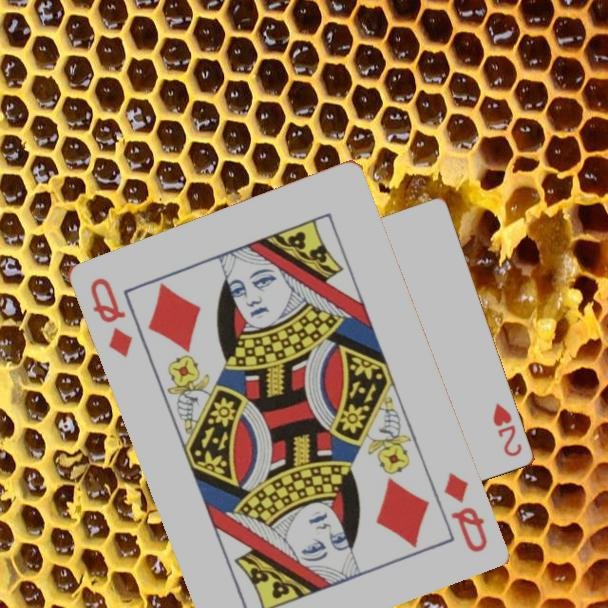d12: (439, 468, 490, 555), (86, 274, 135, 361)
h02: (490, 399, 525, 460)
